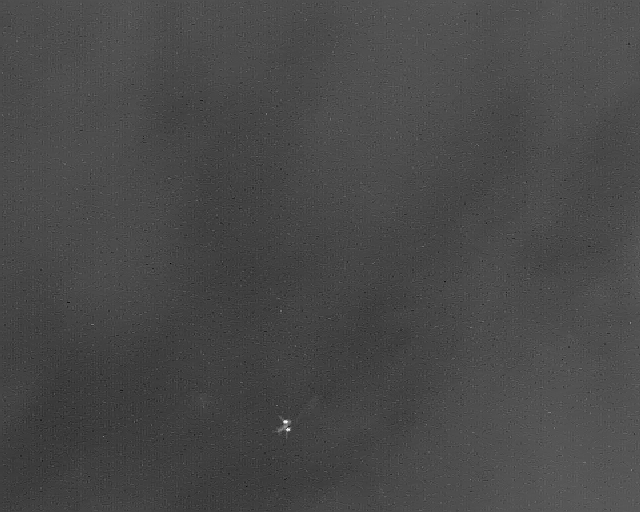Target: (273, 417, 293, 440)
